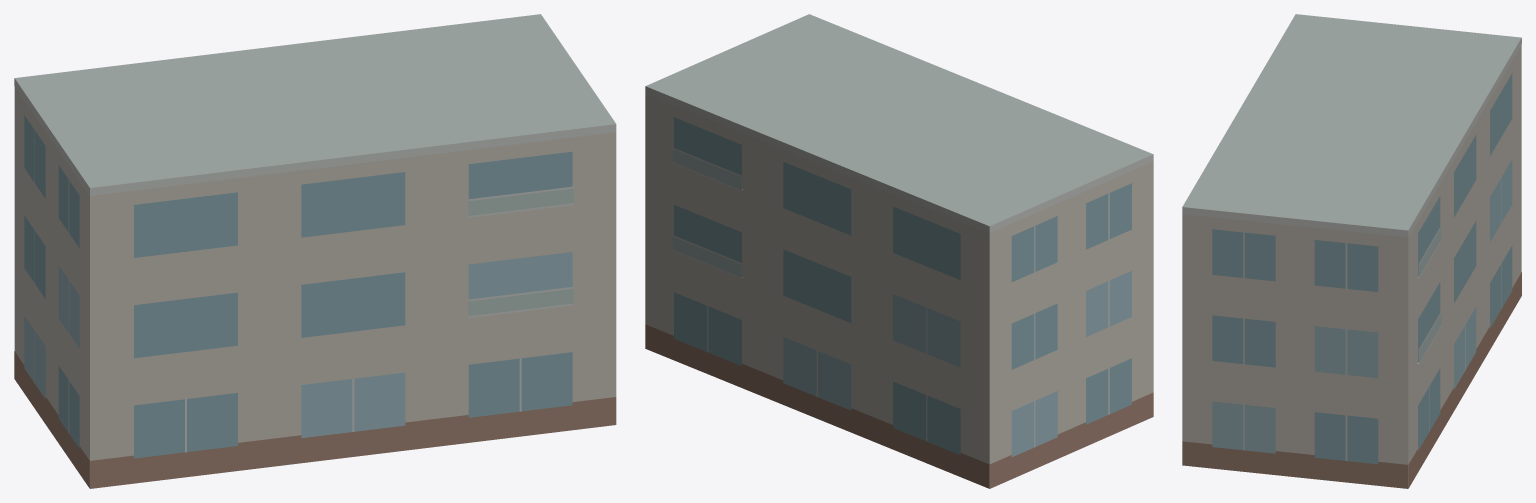
Rendered from survey-upis-32716629.glb.
3 views of the same model, side by side, from view 1: azimuth 30°, elevation 25°; view 2: azimuth 150°, elevation 25°; view 3: azimuth 270°, elevation 25° (orthographic). The views are drawn at different scales.
Visible parts, largest first — view 1: survey-upis-32716629.tmp; view 2: survey-upis-32716629.tmp; view 3: survey-upis-32716629.tmp.
Boxes of the visible parts, <box> form: survey-upis-32716629.tmp: <box>14,14,616,488</box>; survey-upis-32716629.tmp: <box>645,14,1153,488</box>; survey-upis-32716629.tmp: <box>1182,14,1521,488</box>.
Size of the model in its own units: 16.46 by 9.15 by 10.91.
